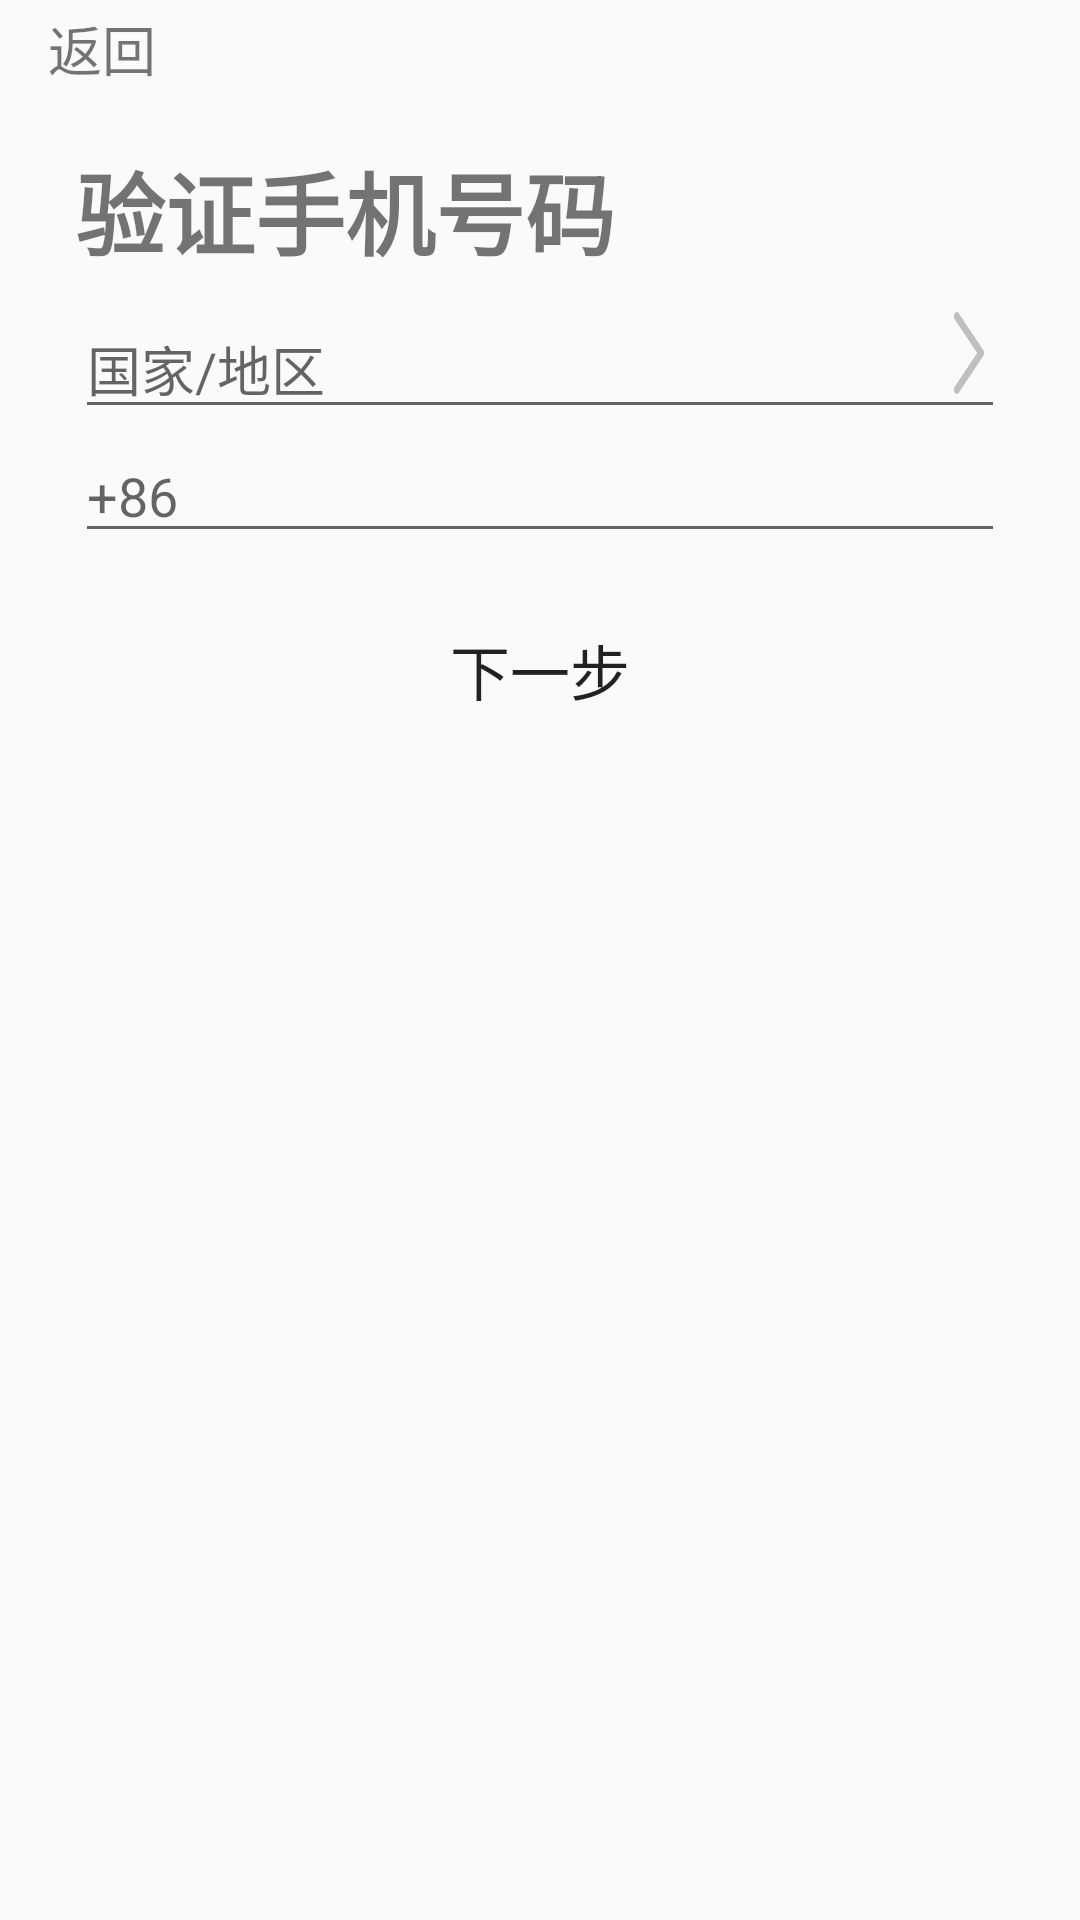

Icon click points for this 1080w x 1920h phone screenshot, format (x=x, y=y):
next: (x=969, y=353)
